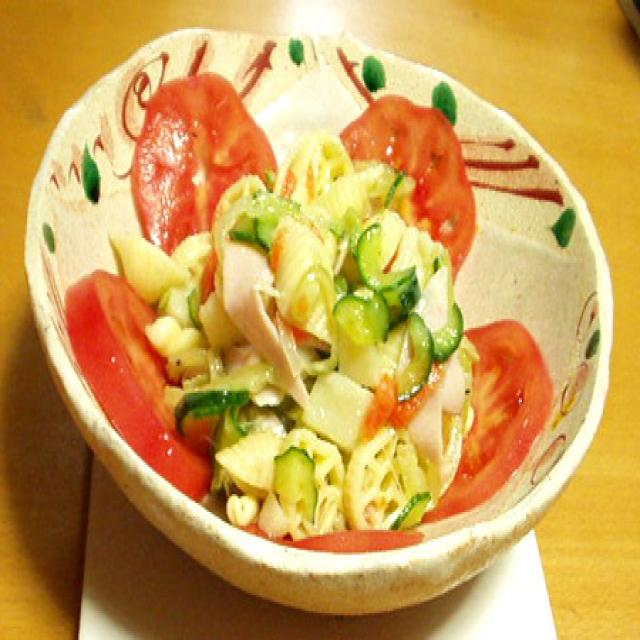蔬菜料理: (20, 23, 614, 613)
